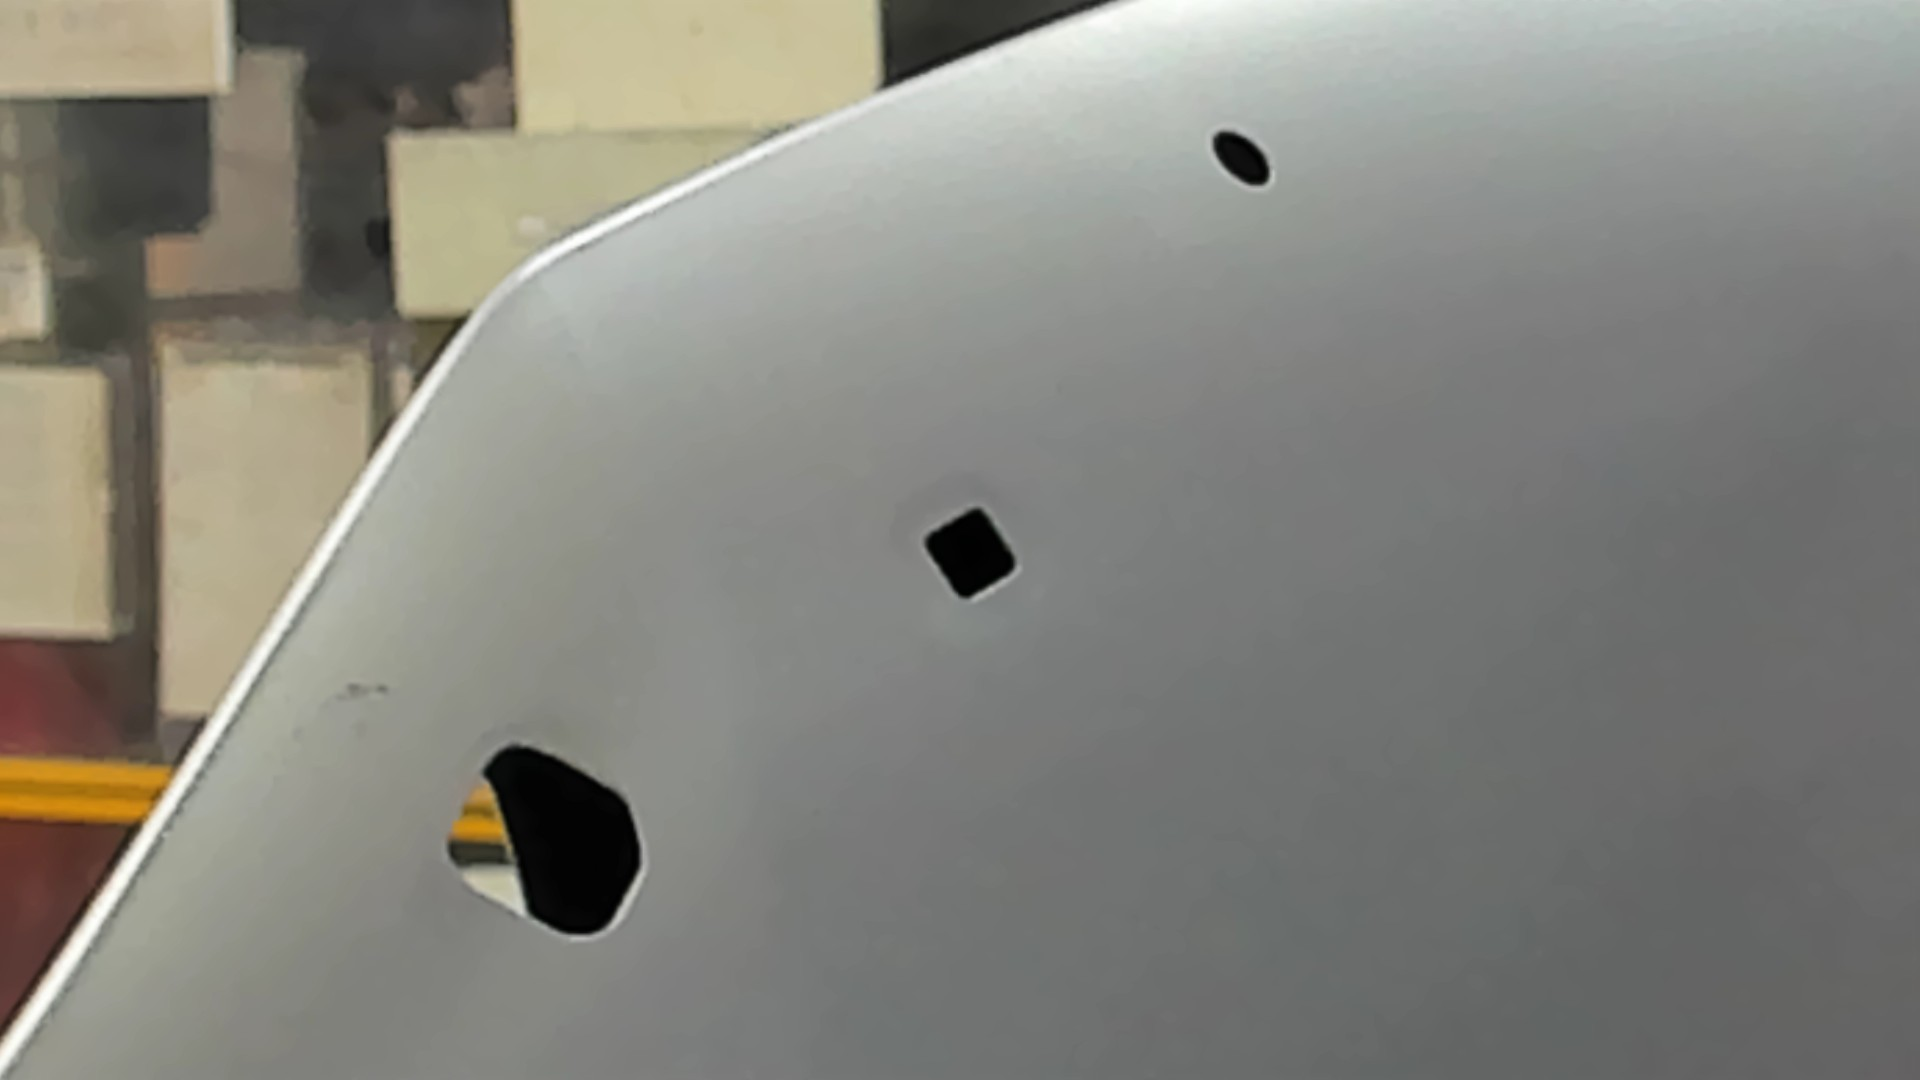chico: (1207, 124, 1276, 191)
grande: (440, 738, 647, 944)
mediano: (918, 498, 1023, 603)
